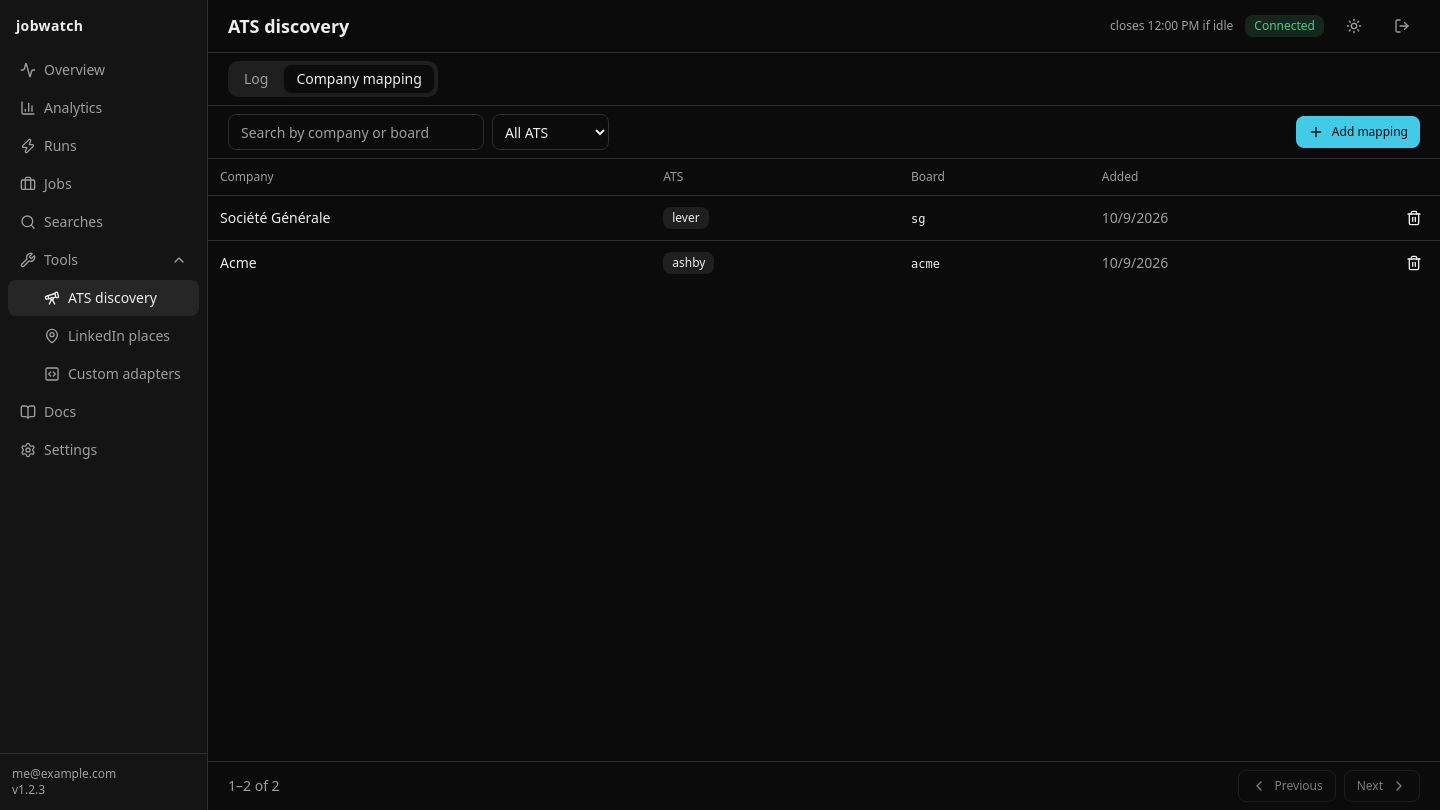
Test case: ATS discovery page › lists the mappings, searches them by company or board, and creates one by hand
Expected: the number of rows is 3, [208, 159, 1439, 195]; [208, 195, 1439, 240]; [208, 240, 1439, 284]
Step 1. Type "sg" into the field named "Search companies" → point(356, 132), box [228, 114, 484, 150]
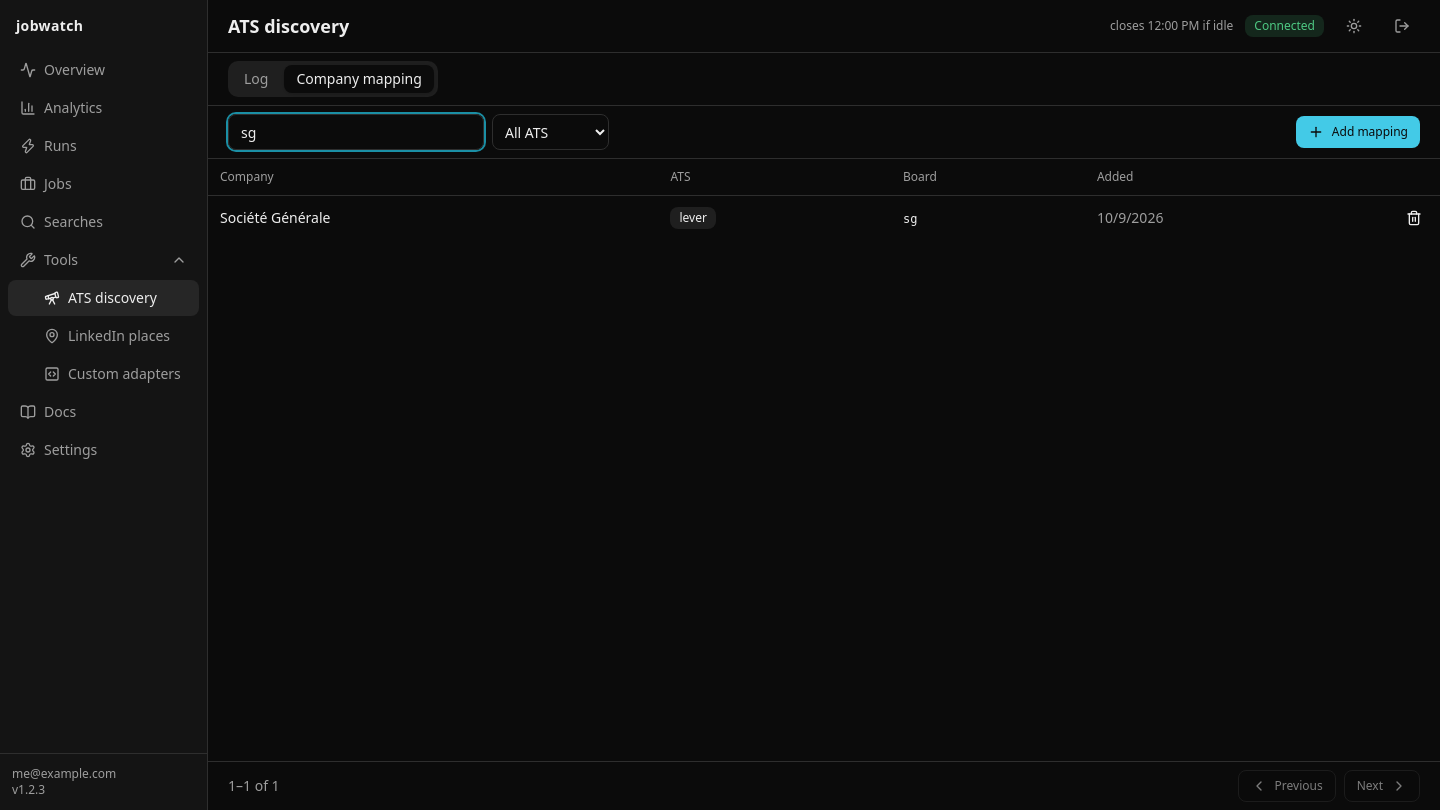
Expected: the text "Société Générale" is shown, [208, 195, 658, 240]
Expected: the number of rows is 2, [208, 159, 1439, 195]; [208, 195, 1439, 240]
Step 2. Click the button "Add mapping" → point(1358, 132), box [1296, 116, 1420, 148]
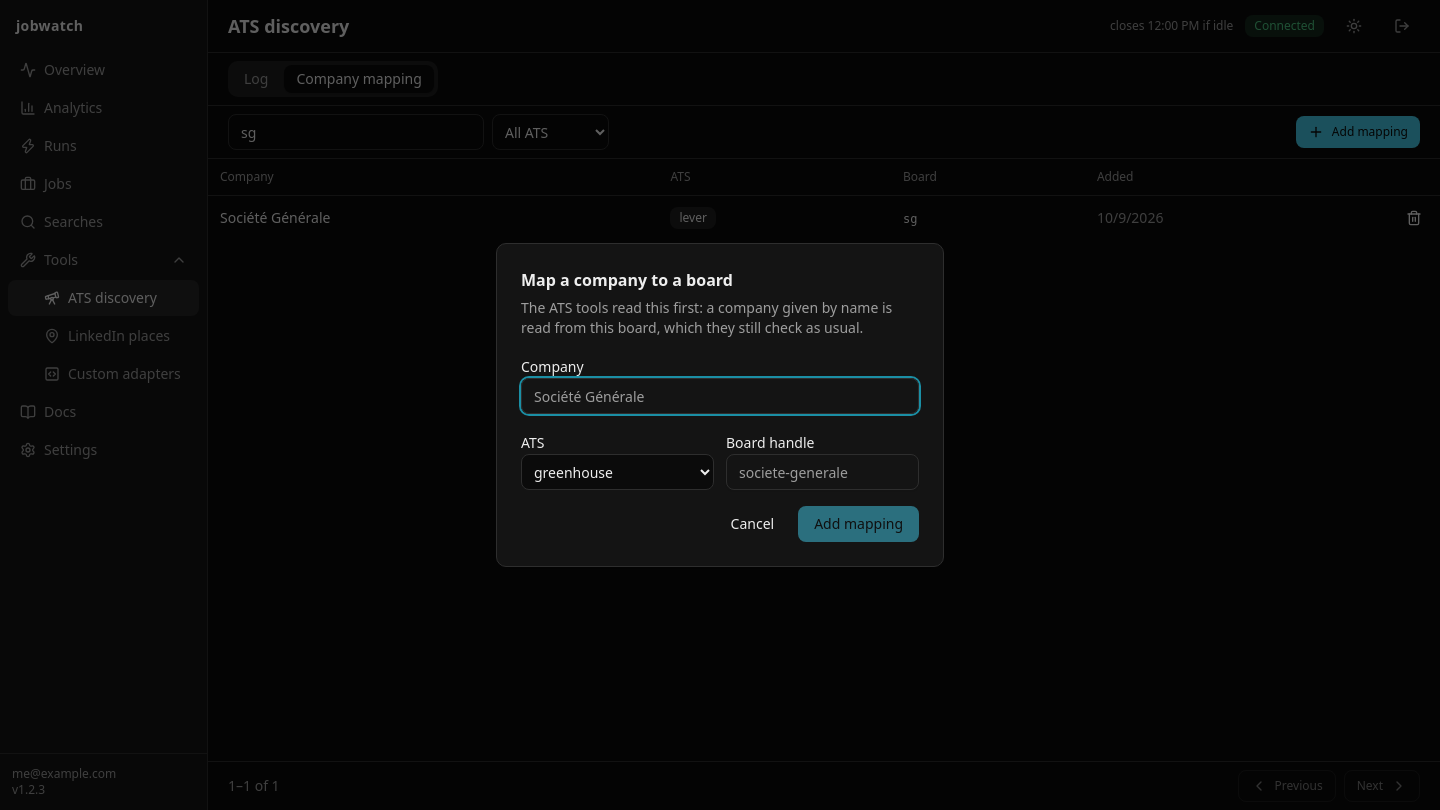
Expected: the button "Add mapping" is disabled, [798, 506, 919, 542]
Step 3. Type "Acme" into the field labelled "Company" → point(720, 396), box [521, 378, 919, 414]
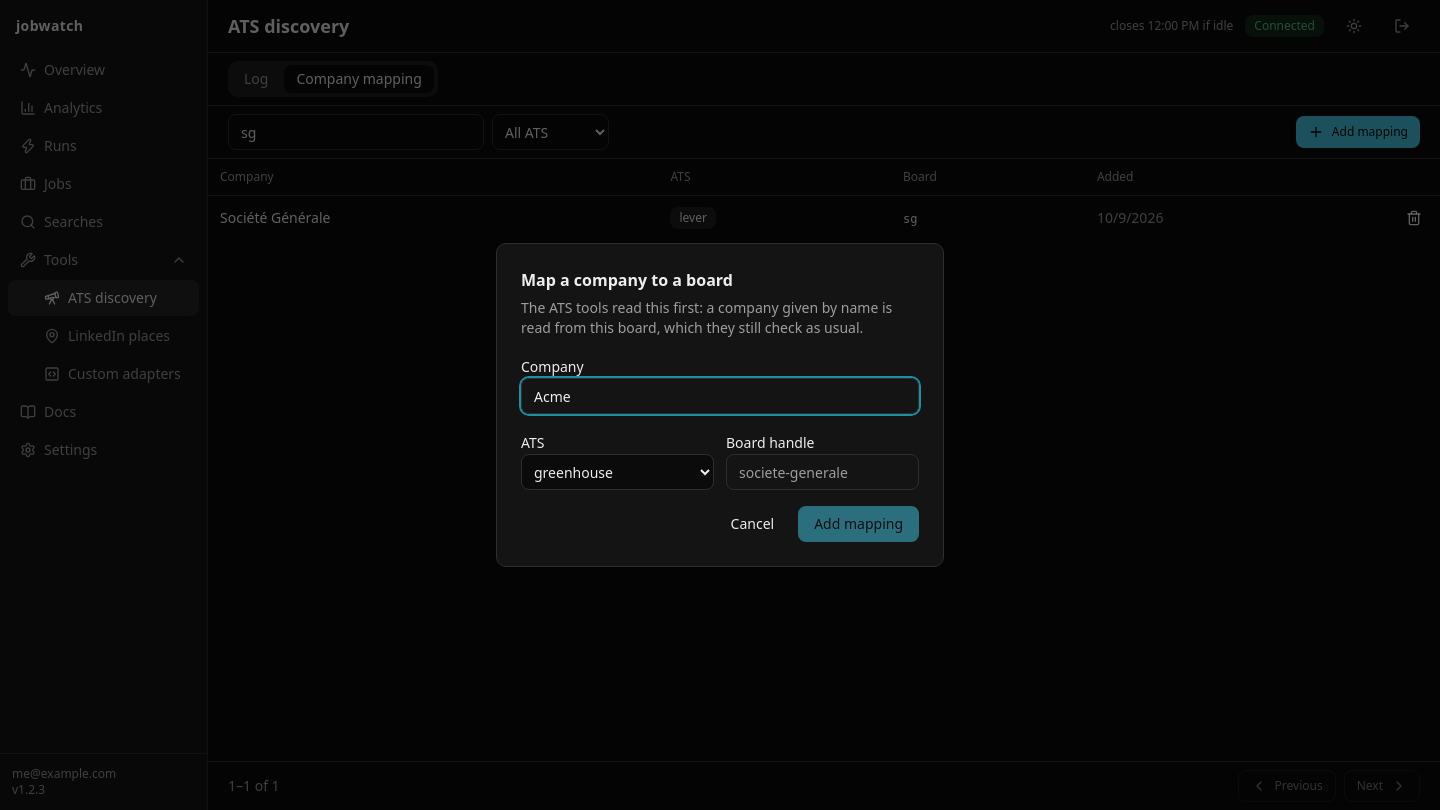
Step 4. Type "../x" into the field labelled "Board handle" → point(822, 472), box [726, 454, 919, 490]
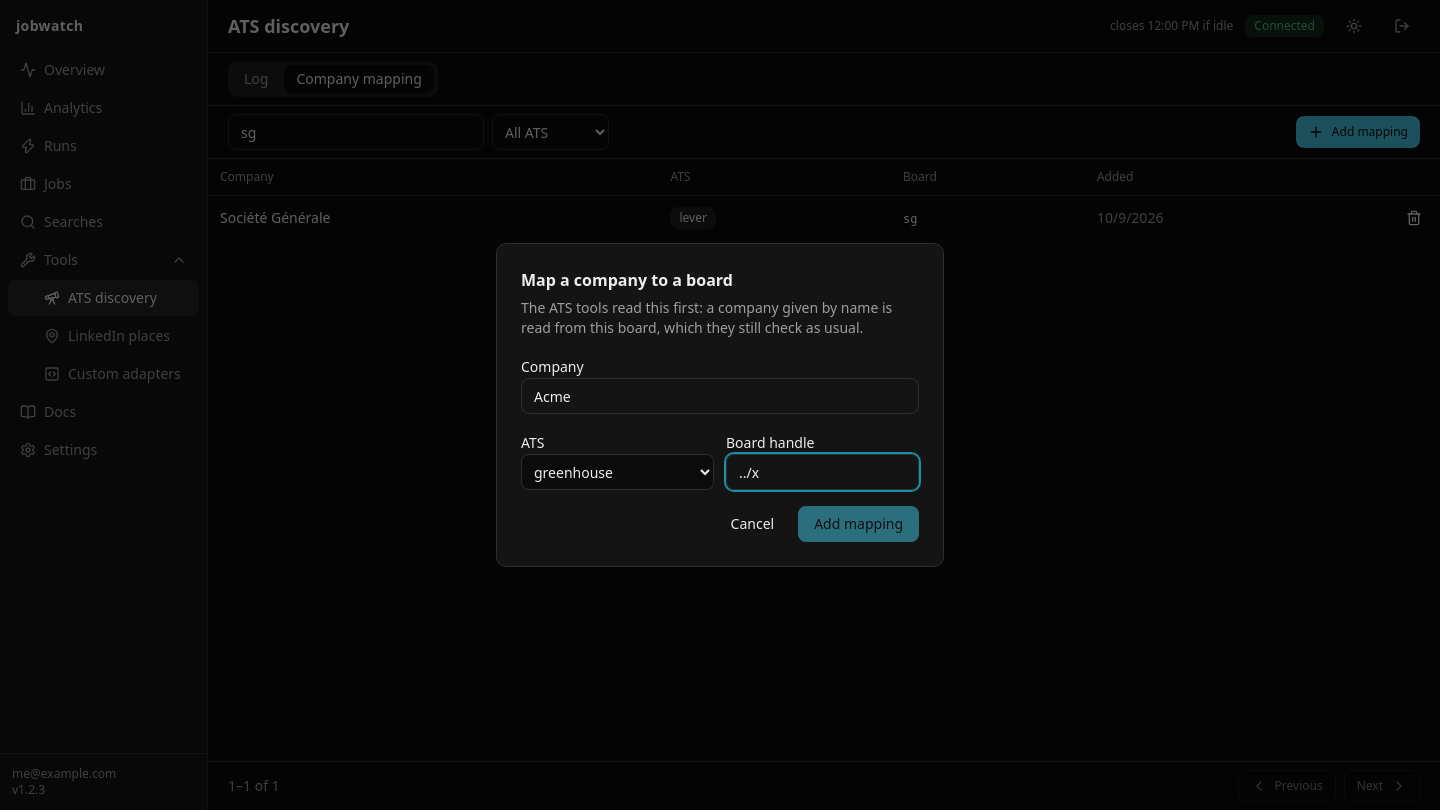
Expected: the button "Add mapping" is disabled, [798, 506, 919, 542]
Step 5. Replace the text in the field labelled "Board handle" with "acme" → point(822, 472), box [726, 454, 919, 490]
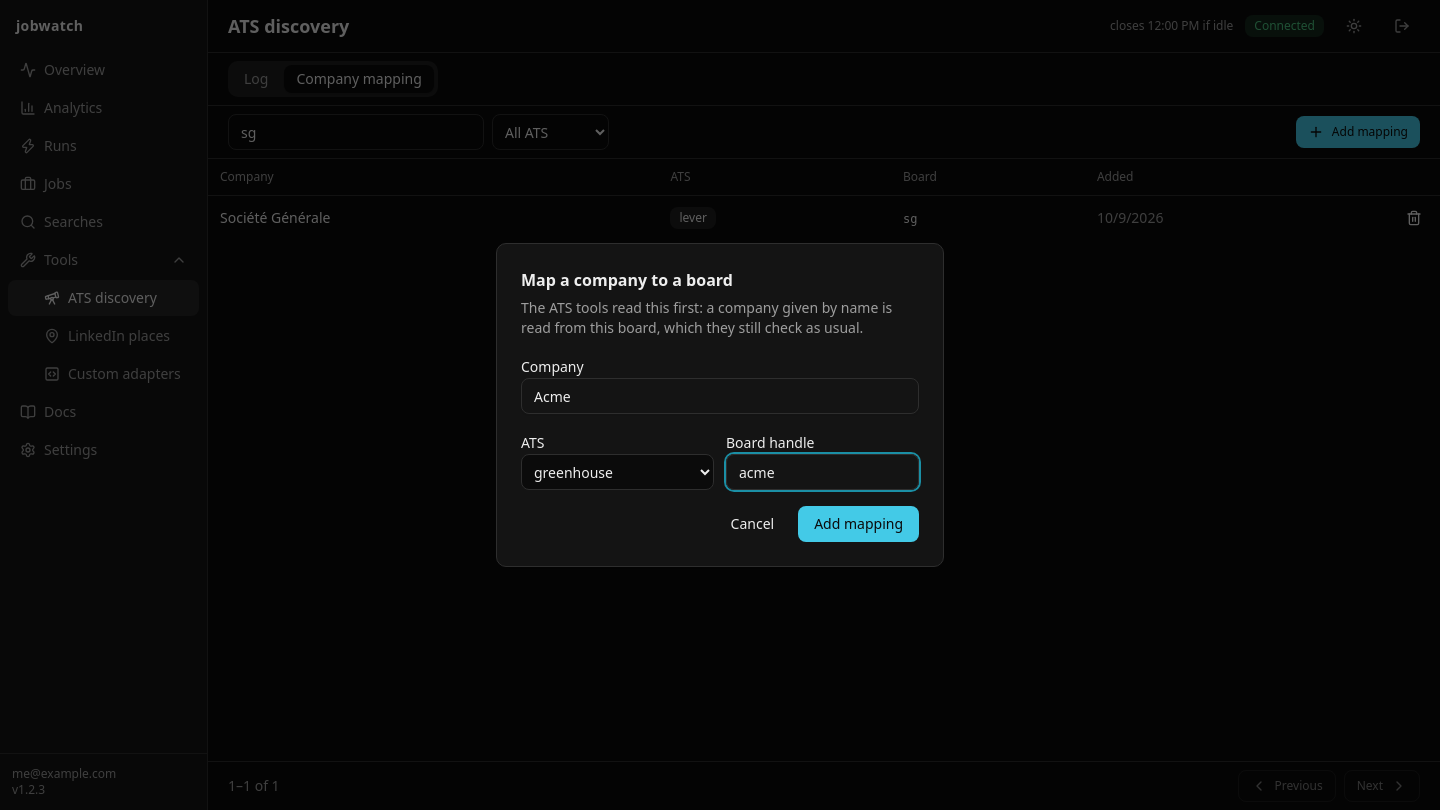
Expected: the button "Add mapping" is enabled, [798, 506, 919, 542]
